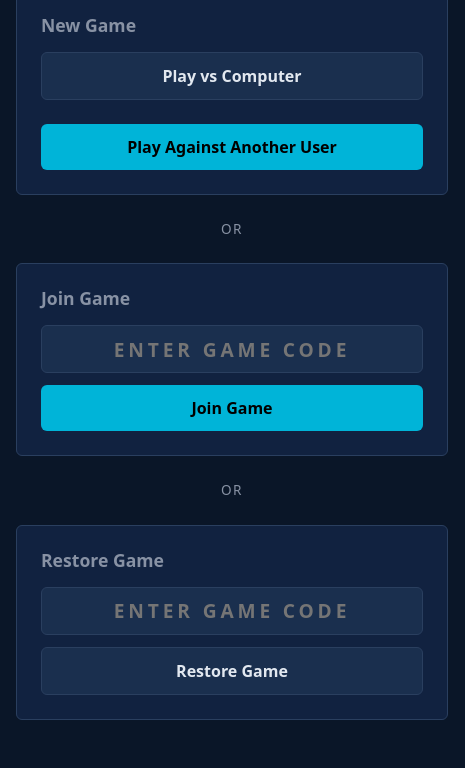
it: Home — restore-by-code (AC-7/8/9/10) › empty submit shows a gentle validation hint and does not navigate (empty-code edge case)
The image size is (465, 768).
(page scrolled)
Click the button "Restore Game" at (232, 671), box [41, 647, 423, 695]
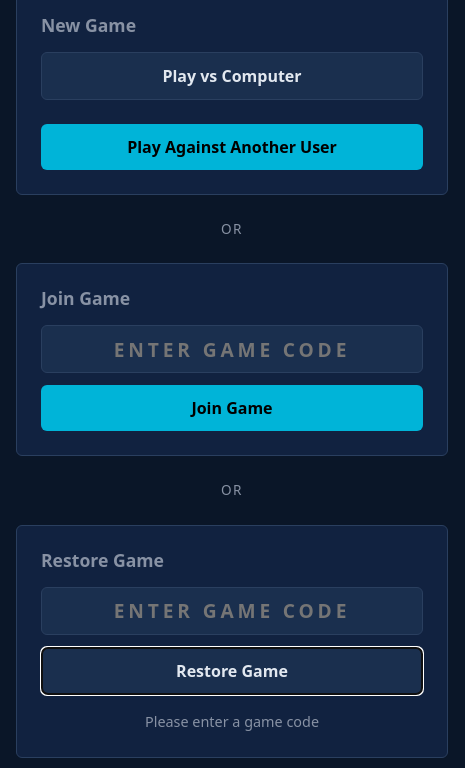
Now the text "Please enter a game code" is shown, box [145, 712, 319, 731]
